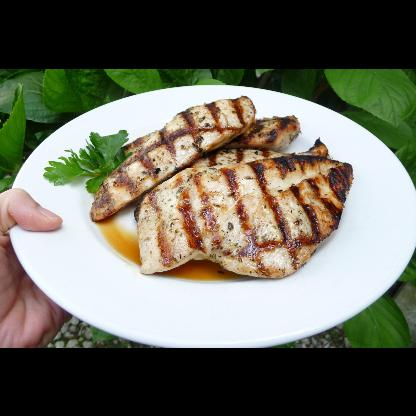grilled chicken breast: (135, 155, 353, 278), (90, 94, 254, 219), (218, 116, 302, 152)
